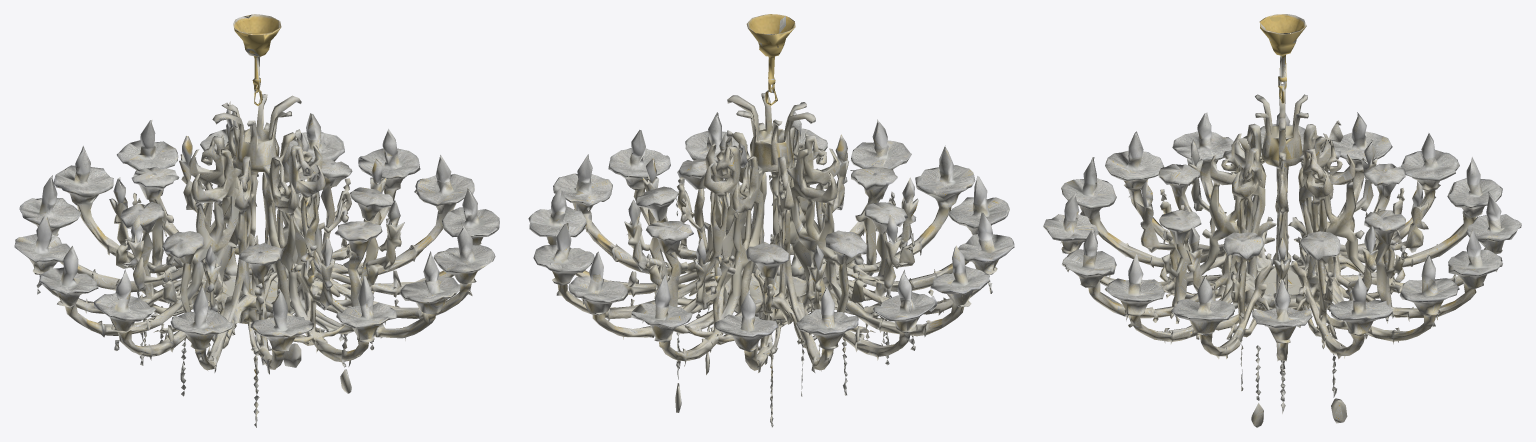
Rendered from đèn chùm.glb.
3 renders of one model, left to right at view 1: azimuth 30°, elevation 25°; view 2: azimuth 150°, elevation 25°; view 3: azimuth 270°, elevation 25°, orthographic. The views are drawn at different scales.
Bounding box in the file's own units: 1.88 × 1.7 × 1.89.
Materials: 1 (1 with a texture image).
